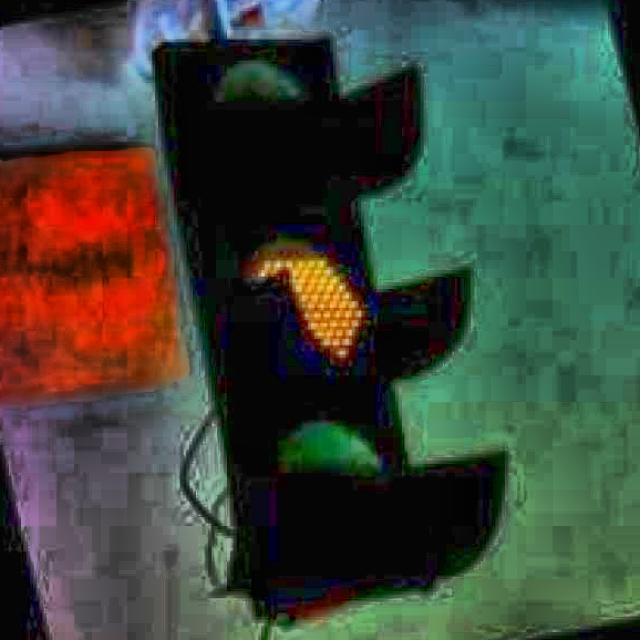yellow: (202, 48, 408, 620)
